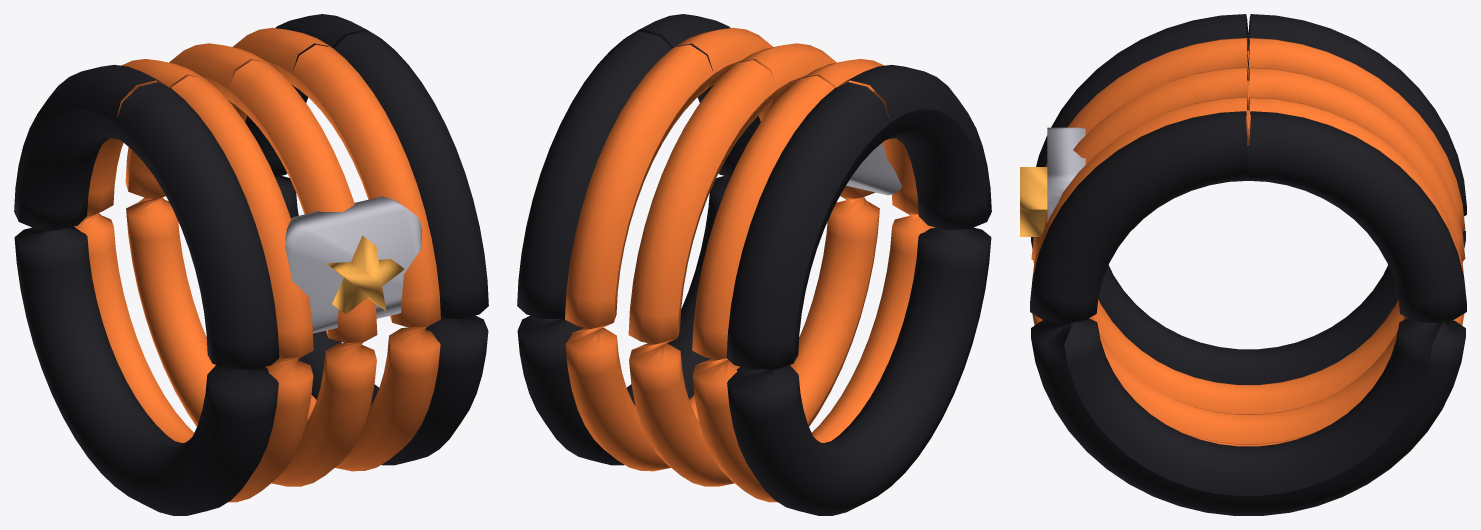
The model's file is sol_right_wrist_cuff.glb.
3 views of the same model, side by side, from view 1: azimuth 30°, elevation 25°; view 2: azimuth 150°, elevation 25°; view 3: azimuth 270°, elevation 25° (orthographic). The views are drawn at different scales.
Visible parts, largest first — view 1: sol_right_wrist_cuff; view 2: sol_right_wrist_cuff; view 3: sol_right_wrist_cuff.
Part boxes in pixels (x1,y1,x2,y2): sol_right_wrist_cuff: (14,14,488,515); sol_right_wrist_cuff: (517,14,991,515); sol_right_wrist_cuff: (1020,14,1466,515).
Size of the model in its own units: 0.094 by 0.1368 by 0.1399.
